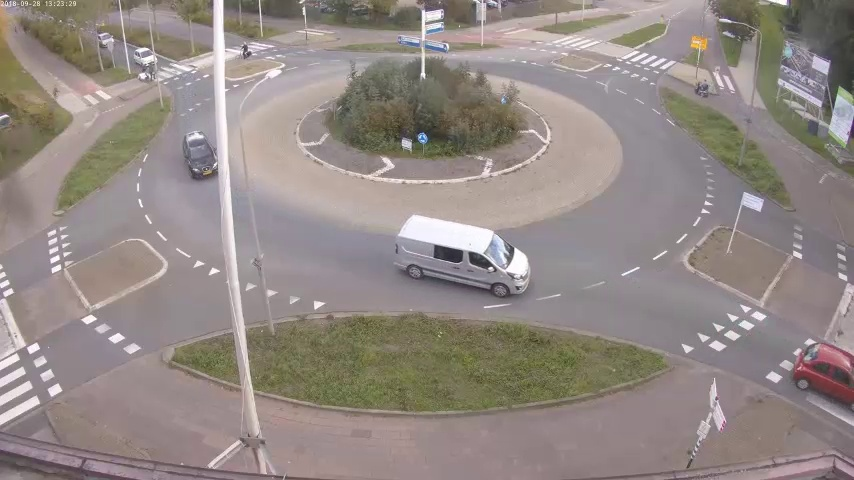bicycle: (691, 78, 707, 99), (239, 40, 253, 61)
car: (793, 340, 854, 402), (182, 130, 217, 189), (132, 41, 157, 66), (98, 30, 112, 48)
van: (387, 214, 532, 302)
